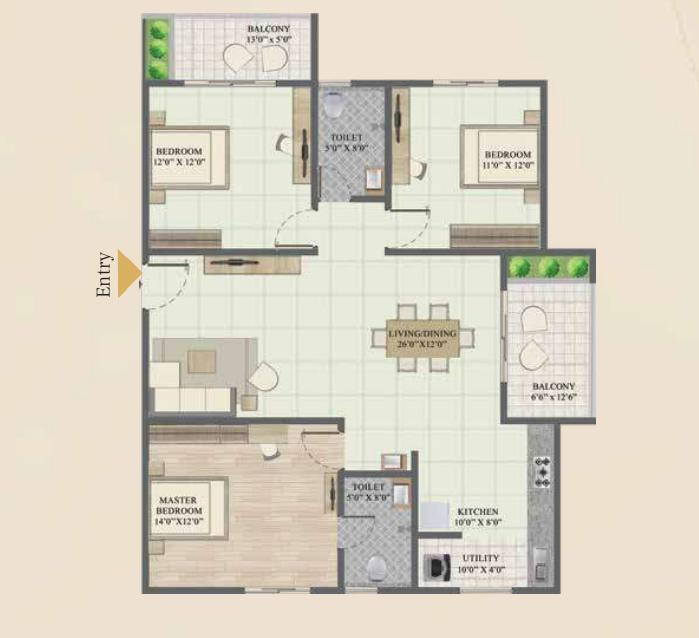Balcony: (505, 260, 592, 416), (145, 17, 315, 81)
Bed: (463, 126, 539, 188), (149, 129, 227, 185), (150, 481, 226, 537)
Bedroom: (146, 420, 342, 589), (146, 85, 315, 250), (395, 85, 544, 249)
Dining Room: (361, 255, 505, 422)
Dining table: (367, 304, 476, 377)
Kitchen: (415, 425, 555, 534)
Living Room: (145, 252, 359, 422)
Sofa: (147, 387, 234, 414), (148, 365, 182, 415)
Wardrobe: (147, 424, 251, 447), (448, 223, 545, 247), (148, 230, 223, 249)
commode: (323, 92, 346, 118), (369, 556, 388, 579)
door: (142, 264, 191, 309), (271, 208, 314, 248), (393, 210, 434, 247), (497, 290, 513, 383), (302, 432, 342, 467), (317, 165, 352, 205), (337, 516, 378, 550), (185, 78, 278, 92)
fridge: (420, 497, 451, 532)
kitchen-slab: (529, 424, 554, 585)
sink: (529, 548, 551, 584), (383, 453, 404, 468), (394, 484, 409, 503), (368, 172, 380, 190)
stove: (532, 456, 551, 488)
toilet: (341, 471, 415, 590), (315, 85, 387, 200)
tv: (292, 108, 313, 185), (205, 255, 274, 276), (393, 84, 410, 169), (321, 474, 340, 511)
utility: (417, 535, 556, 587)
washing-machine: (424, 554, 451, 582)
